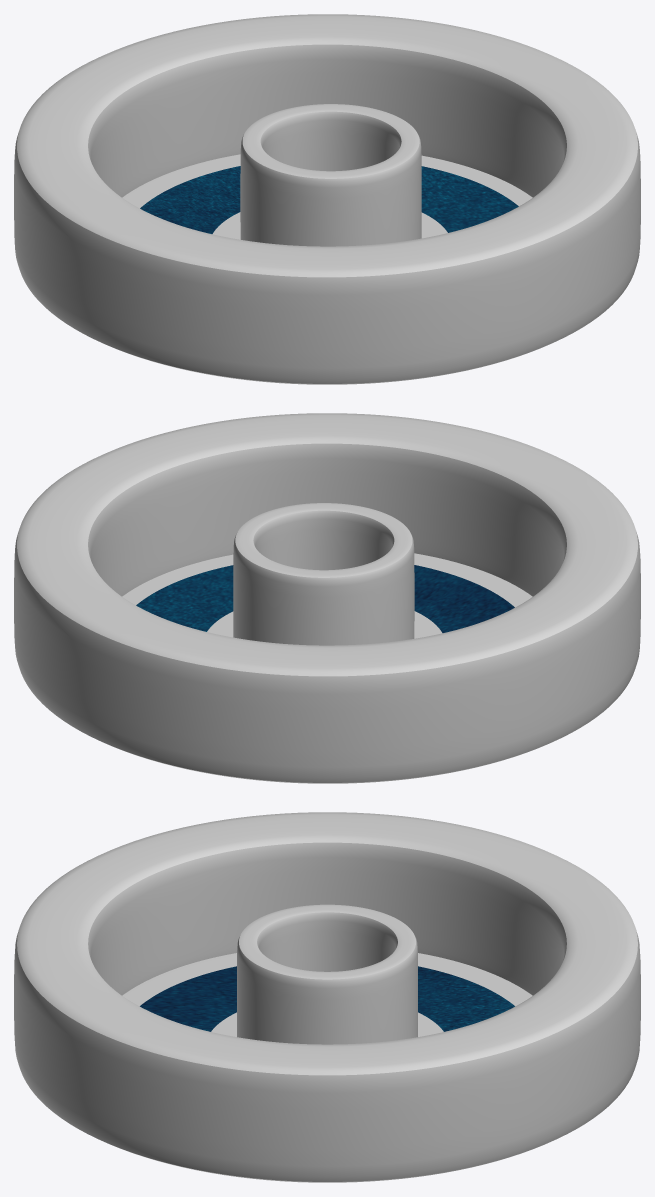
Rendered from o_de_ola_texturas.fbx.
3 renders of one model, top to bottom at view 1: azimuth 30°, elevation 25°; view 2: azimuth 150°, elevation 25°; view 3: azimuth 270°, elevation 25°, orthographic.
Parts seen in each view (by area): view 1: piso; view 2: piso; view 3: piso.
Part boxes in pixels (x1=…): piso: x1=14, y1=14, x2=640, y2=384; piso: x1=14, y1=413, x2=640, y2=783; piso: x1=14, y1=812, x2=640, y2=1182.
Bounding box in the file's own units: 984 × 236 × 984.
Materials: 2 (1 with a texture image).
